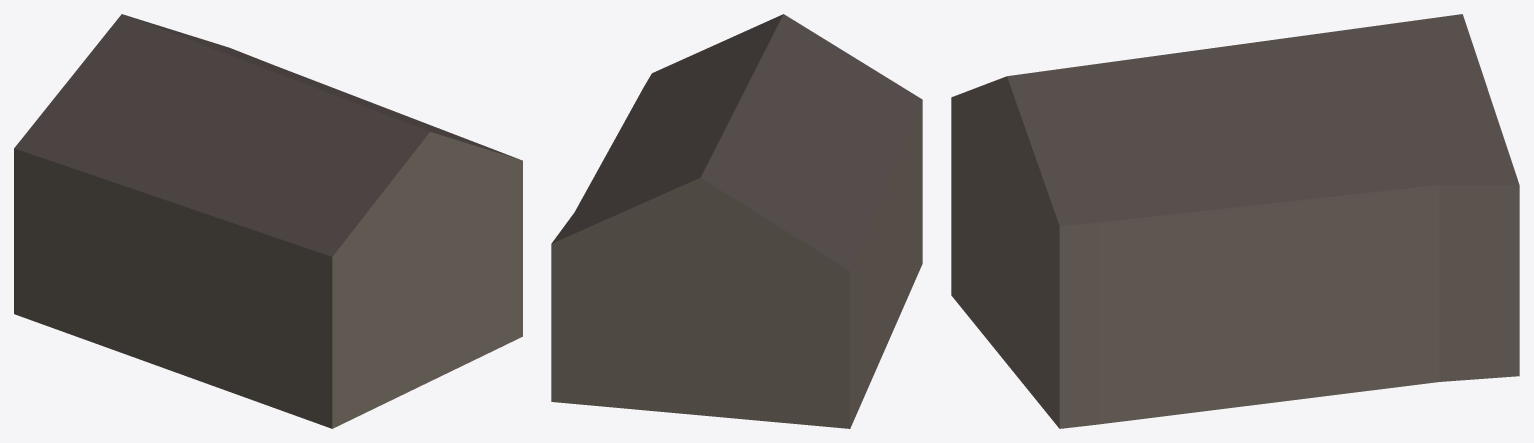
The picture shows the model from 3 angles, left to right: view 1: azimuth 30°, elevation 25°; view 2: azimuth 150°, elevation 25°; view 3: azimuth 270°, elevation 25°; orthographic projection. The views are drawn at different scales.
Parts seen in each view (by area): view 1: HP-w1198842488; view 2: HP-w1198842488; view 3: HP-w1198842488.
Part boxes in pixels (bbox=[...]): HP-w1198842488: bbox=[14, 14, 522, 428]; HP-w1198842488: bbox=[551, 14, 922, 428]; HP-w1198842488: bbox=[951, 14, 1519, 428].
Bounding box in the file's own units: 13.58 × 9.04 × 16.18.
